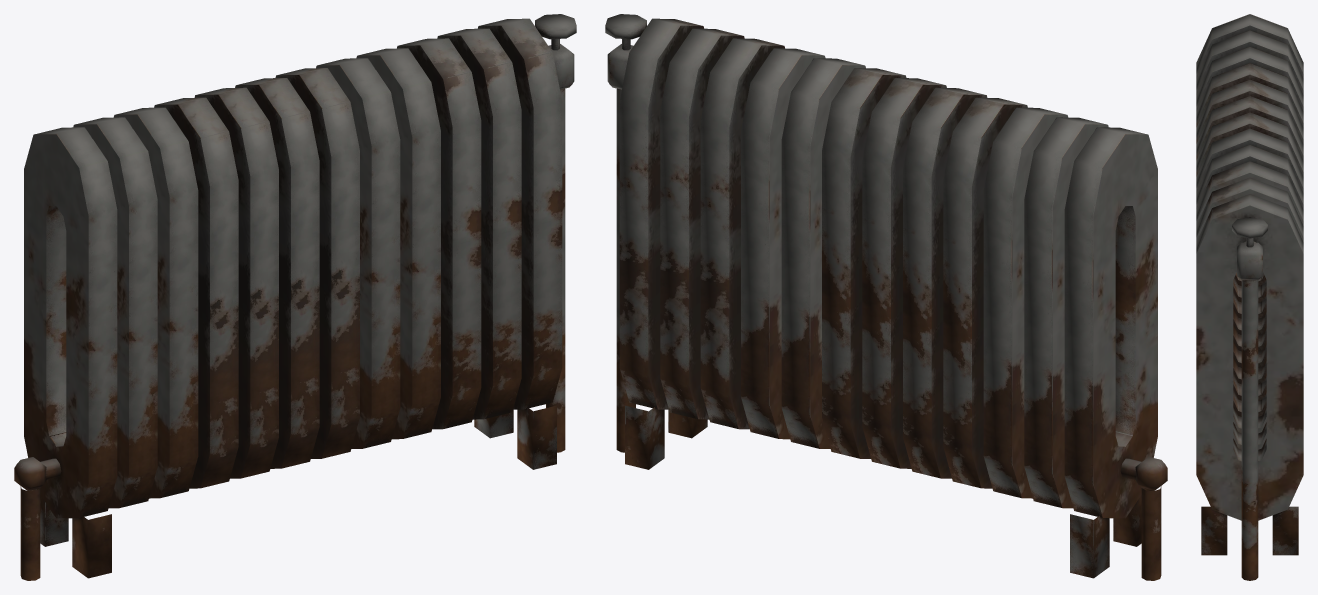
Rendered from radiator.glb.
The picture shows the model from 3 angles, left to right: view 1: azimuth 30°, elevation 25°; view 2: azimuth 150°, elevation 25°; view 3: azimuth 270°, elevation 25°; orthographic projection. The views are drawn at different scales.
Visible parts, largest first — view 1: radiator; view 2: radiator; view 3: radiator.
Part boxes in pixels (x1=…): radiator: x1=14, y1=14, x2=576, y2=580; radiator: x1=605, y1=14, x2=1167, y2=580; radiator: x1=1196, y1=14, x2=1303, y2=580.
Size of the model in its own units: 0.894 by 0.67 by 0.18.
1 material, 1 textured.
